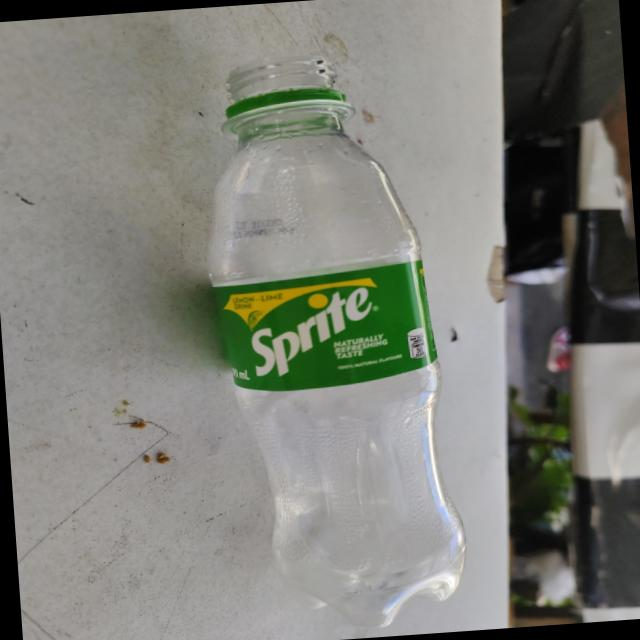Bottle: (209, 56, 464, 628)
